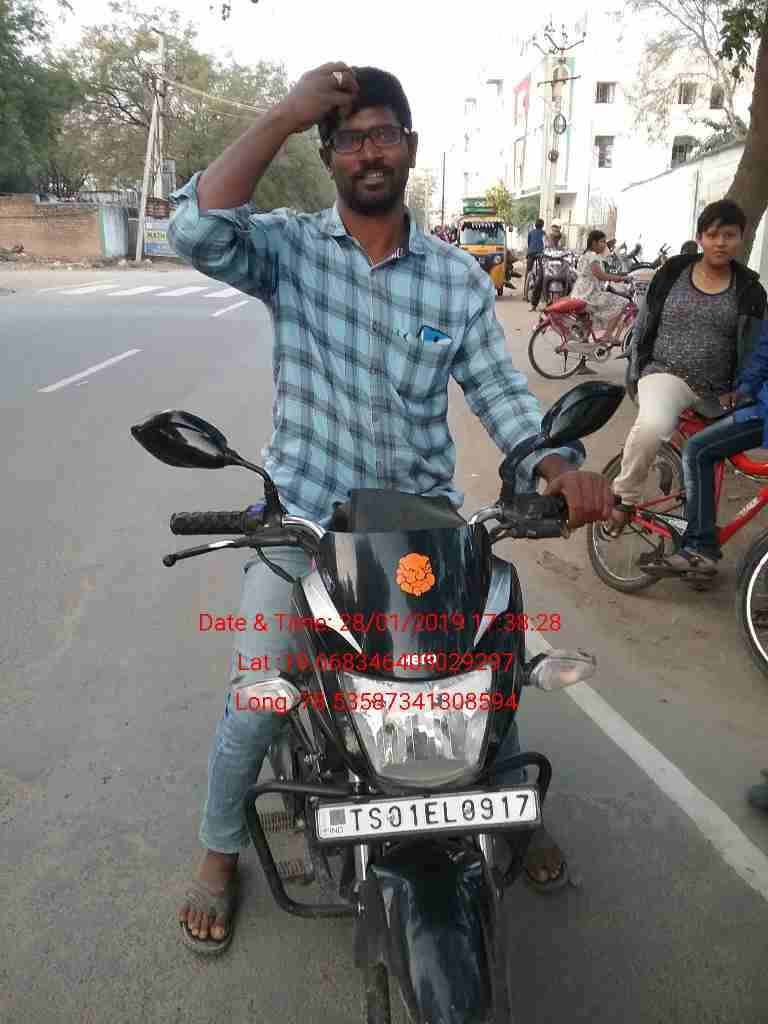plate: (310, 786, 546, 839)
